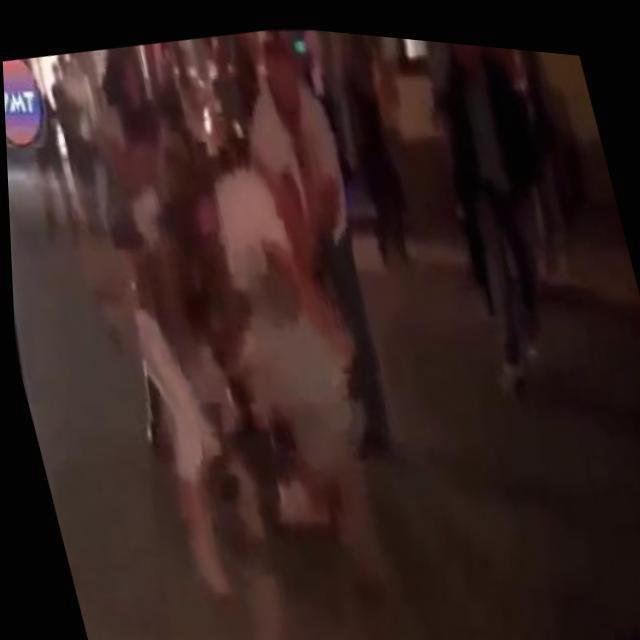fight: (61, 6, 440, 607)
